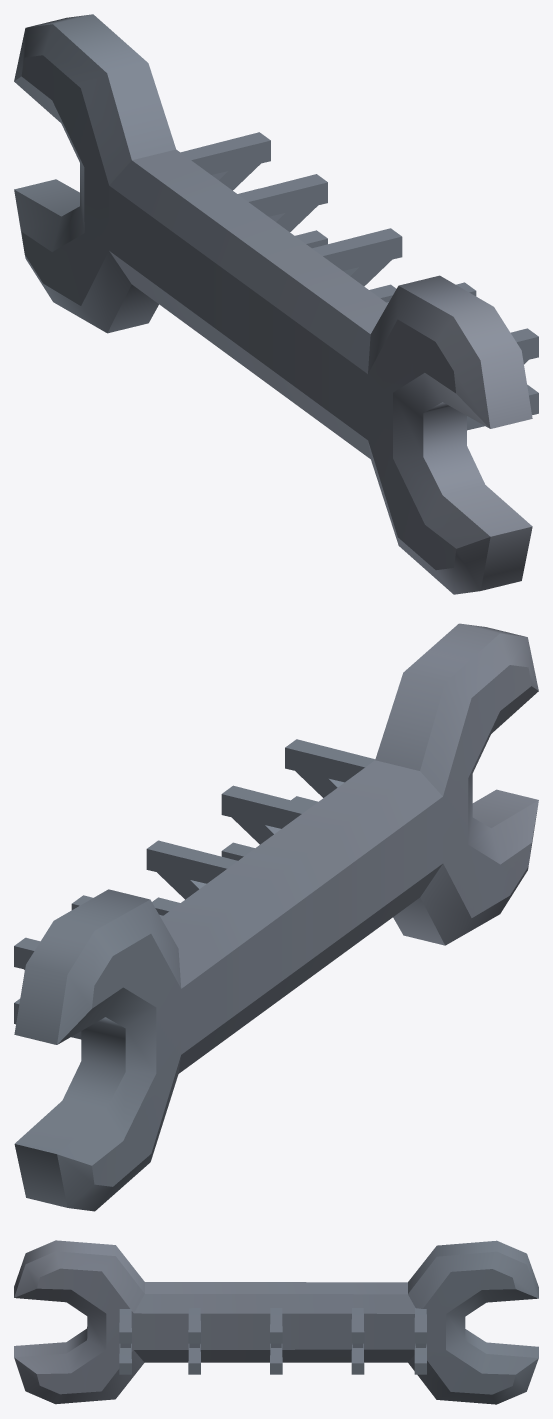
Rendered from FlatWrenchSign_2_B.fbx.
3 renders of one model, top to bottom at view 1: azimuth 30°, elevation 25°; view 2: azimuth 150°, elevation 25°; view 3: azimuth 270°, elevation 25°, orthographic. The views are drawn at different scales.
Parts seen in each view (by area): view 1: FlatWrenchSign_2_B; view 2: FlatWrenchSign_2_B; view 3: FlatWrenchSign_2_B.
Boxes of the visible parts, bbox=[...] form: FlatWrenchSign_2_B: bbox=[14, 14, 538, 594]; FlatWrenchSign_2_B: bbox=[14, 623, 538, 1211]; FlatWrenchSign_2_B: bbox=[14, 1240, 538, 1404].
Bounding box in the file's own units: 76.66 × 129 × 401.
